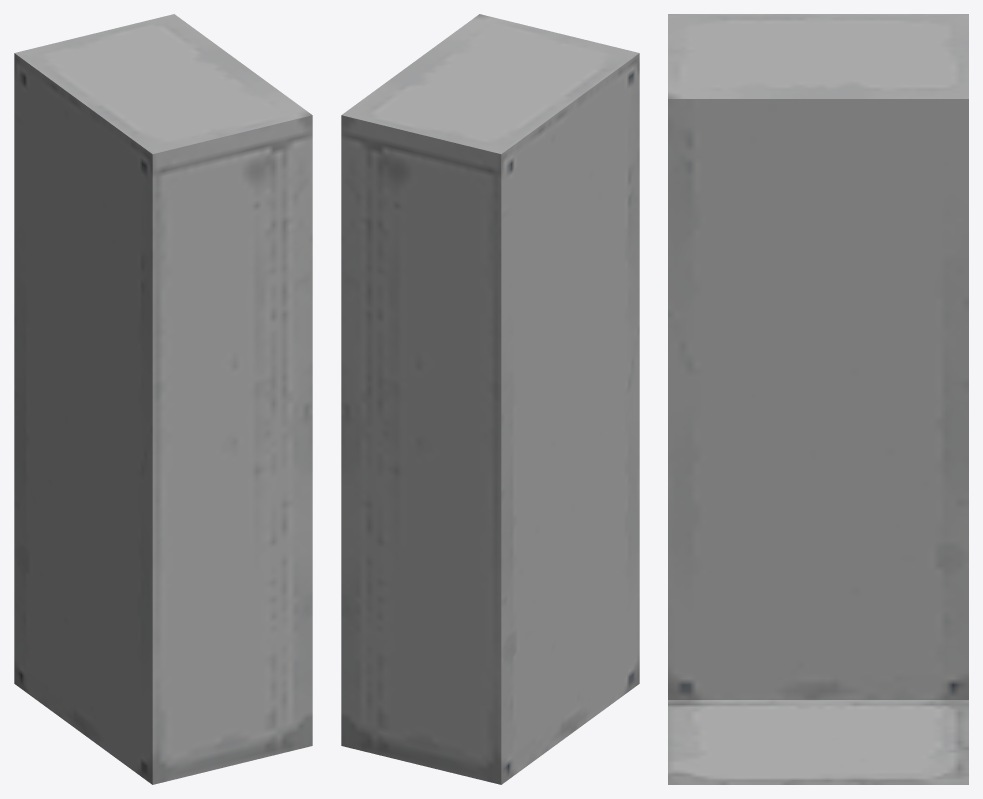
The model's file is MB_Electric_Meter_01.fbx.
3 views of the same model, side by side, from view 1: azimuth 30°, elevation 25°; view 2: azimuth 150°, elevation 25°; view 3: azimuth 270°, elevation 25° (orthographic). The views are drawn at different scales.
Parts seen in each view (by area): view 1: MB_Electric_Meter_01; view 2: MB_Electric_Meter_01; view 3: MB_Electric_Meter_01.
Part boxes in pixels (left/top/right/bottom): MB_Electric_Meter_01: left=14, top=14, right=312, bottom=784; MB_Electric_Meter_01: left=341, top=14, right=639, bottom=784; MB_Electric_Meter_01: left=668, top=14, right=968, bottom=784.
Size of the model in its own units: 9.82 by 37 by 14.7.
